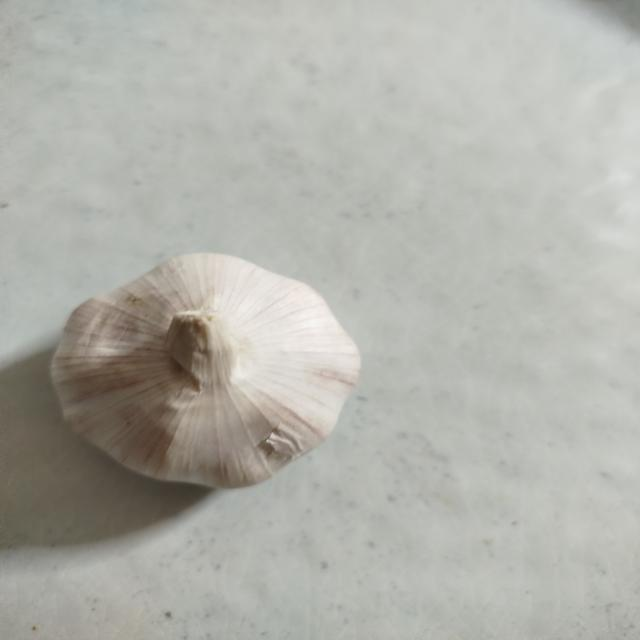garlic: (49, 252, 361, 489)
